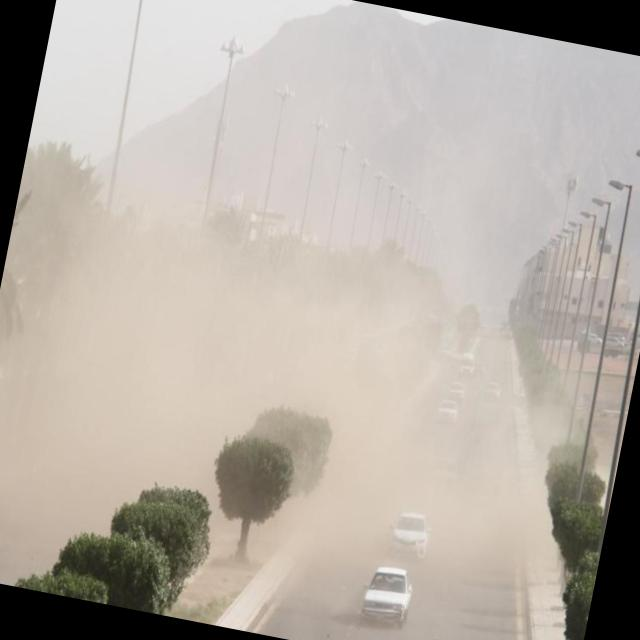car: (358, 562, 418, 630), (390, 509, 436, 559), (428, 453, 461, 490), (434, 399, 458, 425), (458, 354, 476, 383), (482, 380, 503, 403), (584, 327, 604, 348), (449, 383, 466, 404), (605, 336, 626, 352), (441, 346, 453, 361)
